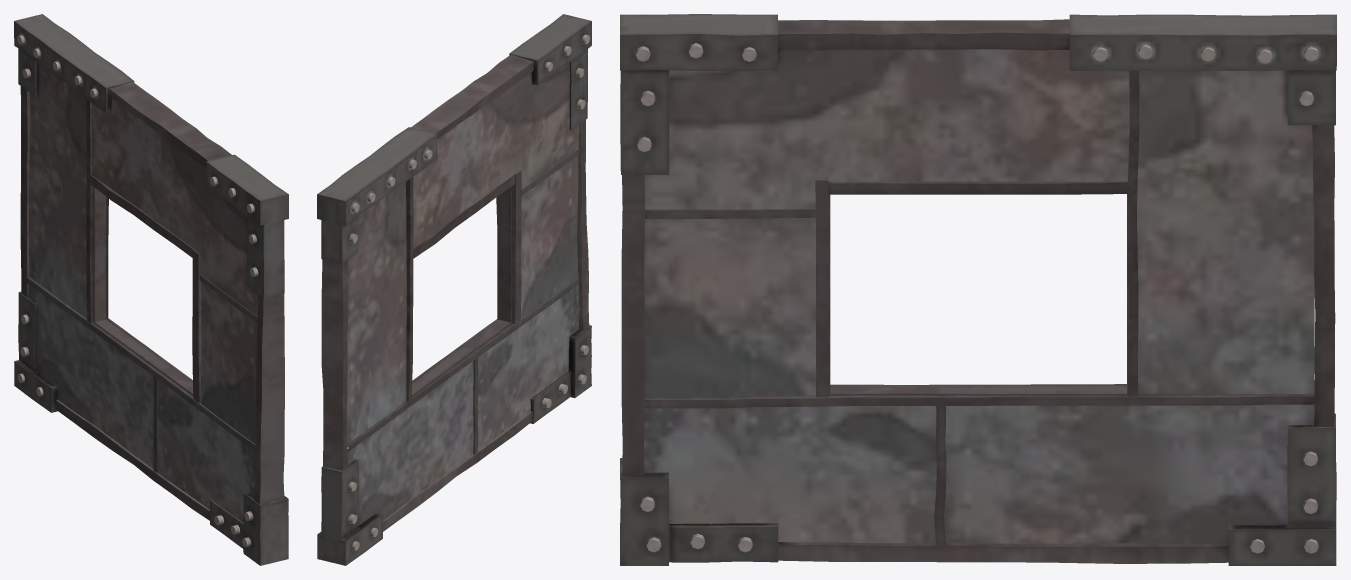
The model's file is SM_WallWindow_Iron_2254cb.glb.
3 renders of one model, left to right at view 1: azimuth 30°, elevation 25°; view 2: azimuth 150°, elevation 25°; view 3: azimuth 270°, elevation 25°, orthographic. The views are drawn at different scales.
Size of the model in its own units: 0.3467 by 3.31 by 4.04.
Materials: 1 (1 with a texture image).
